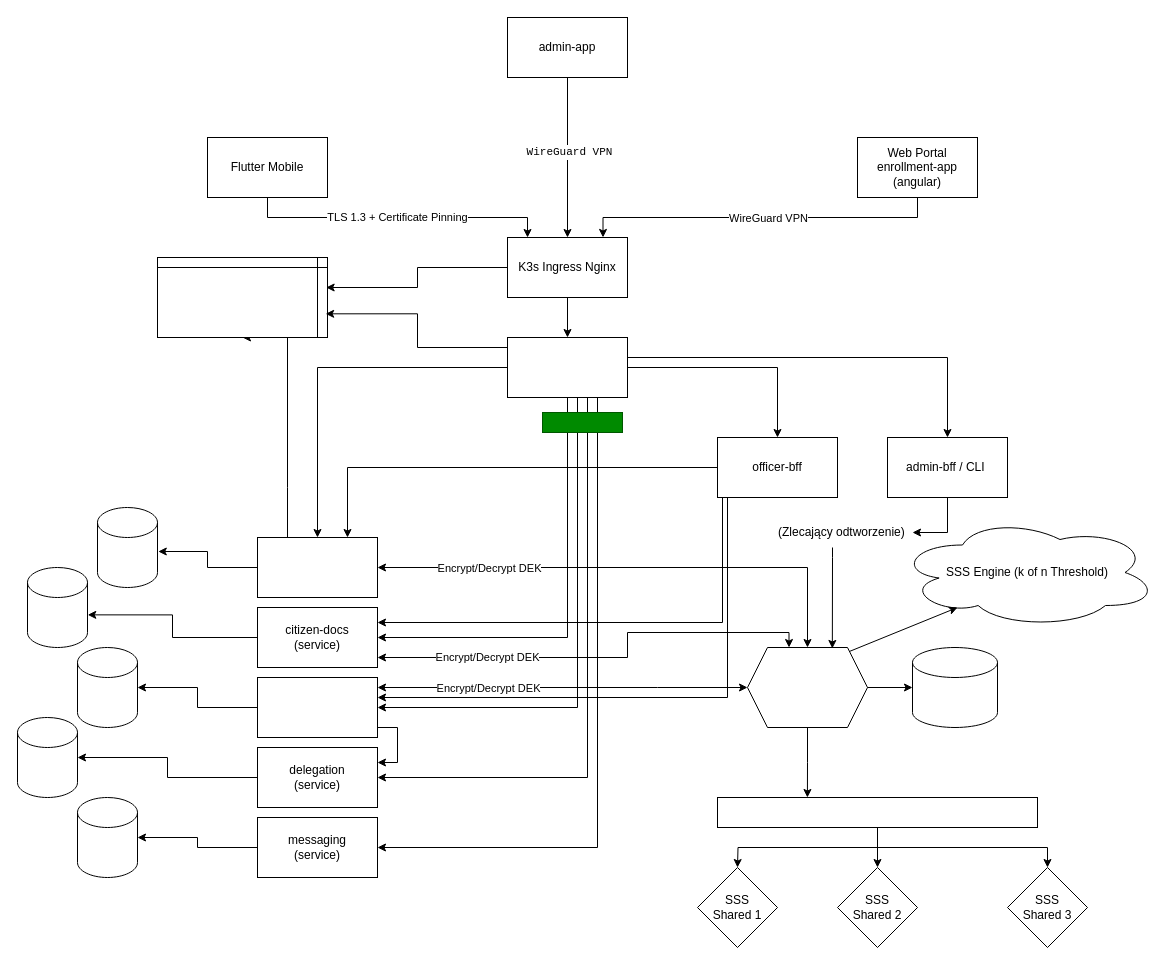
The diagram is 1175 pixels wide and 965 high, and some of its shapes have lost their labels. The shapes that lost their labels are listed below. From the top down, each one's centre as x and y in pixels, then its label:
the point at 242,297: REDIS - Session - Cache & Rate Limiter
the point at 567,367: Gateway
the point at 582,422: gRPC / HTTP
the point at 317,567: auth (service)
the point at 317,707: identity (service)
the point at 807,687: KMS (Rust)
the point at 877,812: SSS Engine (Initiate Key Reconstruction)
